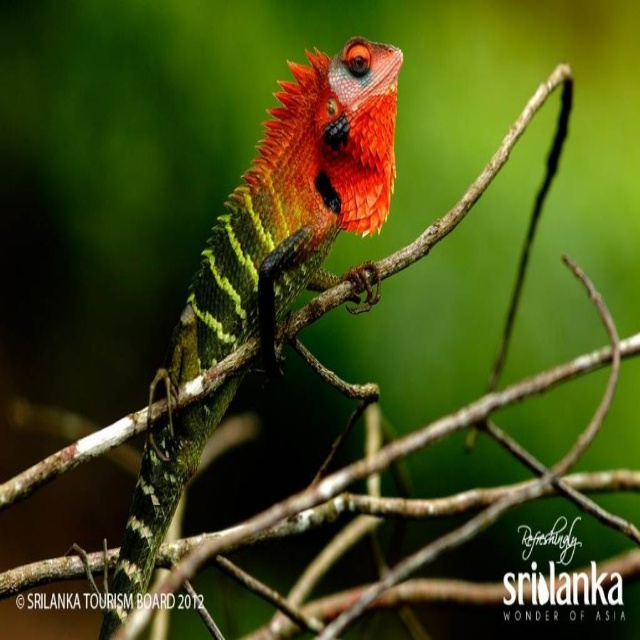Lizard: (71, 33, 422, 603)
